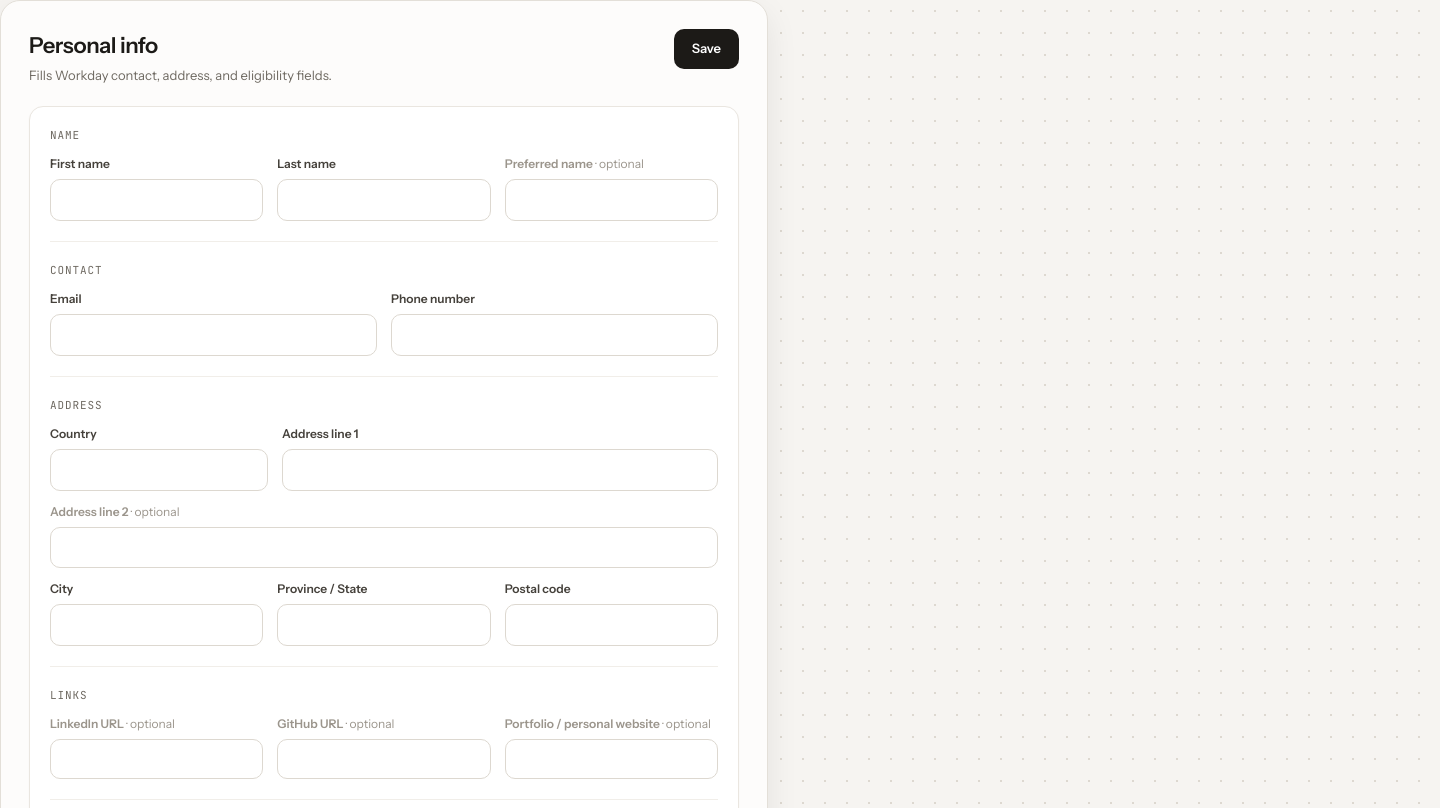
Test case: PersonalInfoPage › shows a validation error when email is invalid
The image size is (1440, 808).
Type "not-an-email" into the field labelled "Email" at (214, 335), box left=50, top=314, right=377, bottom=356
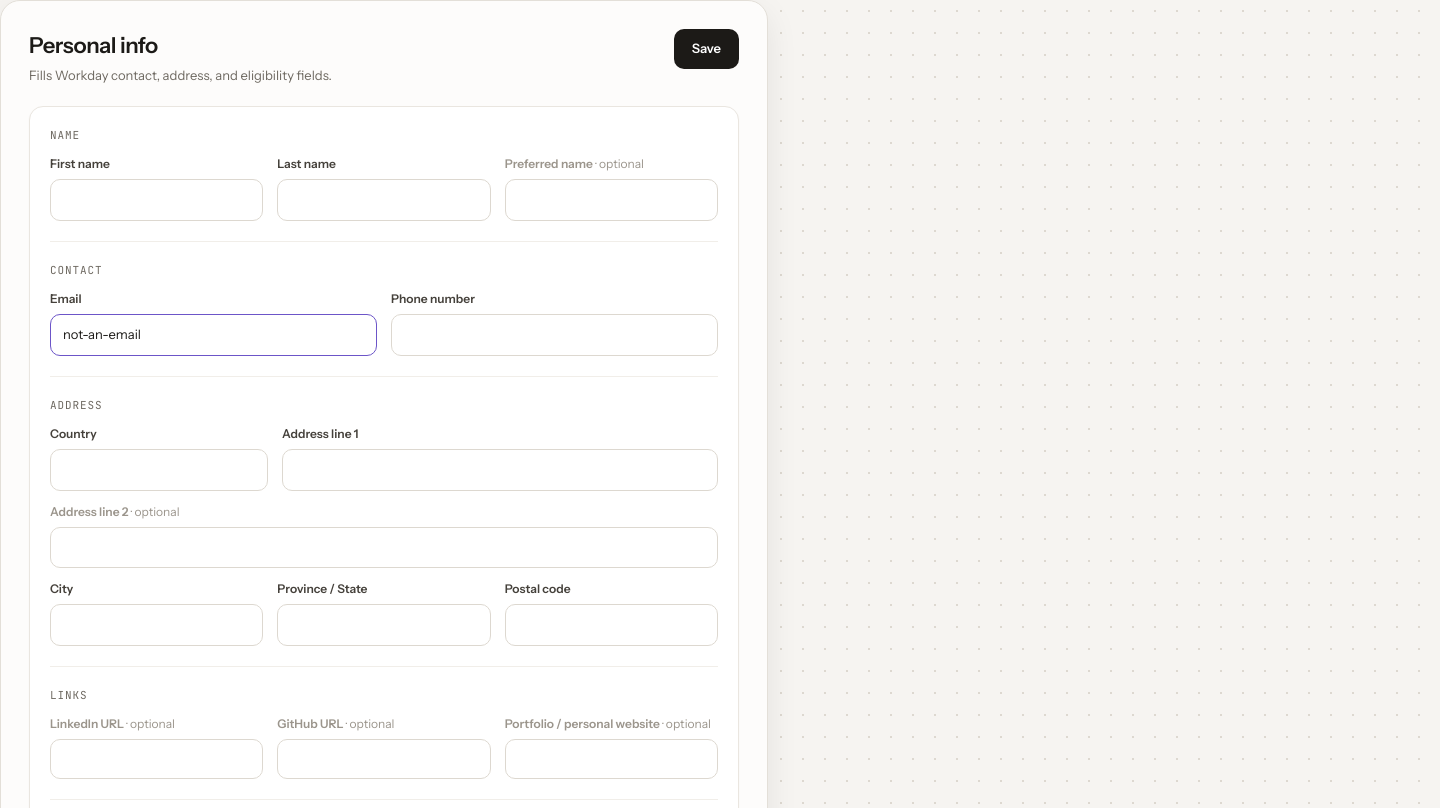
Click the button "Save" at (706, 49), box left=674, top=29, right=739, bottom=68
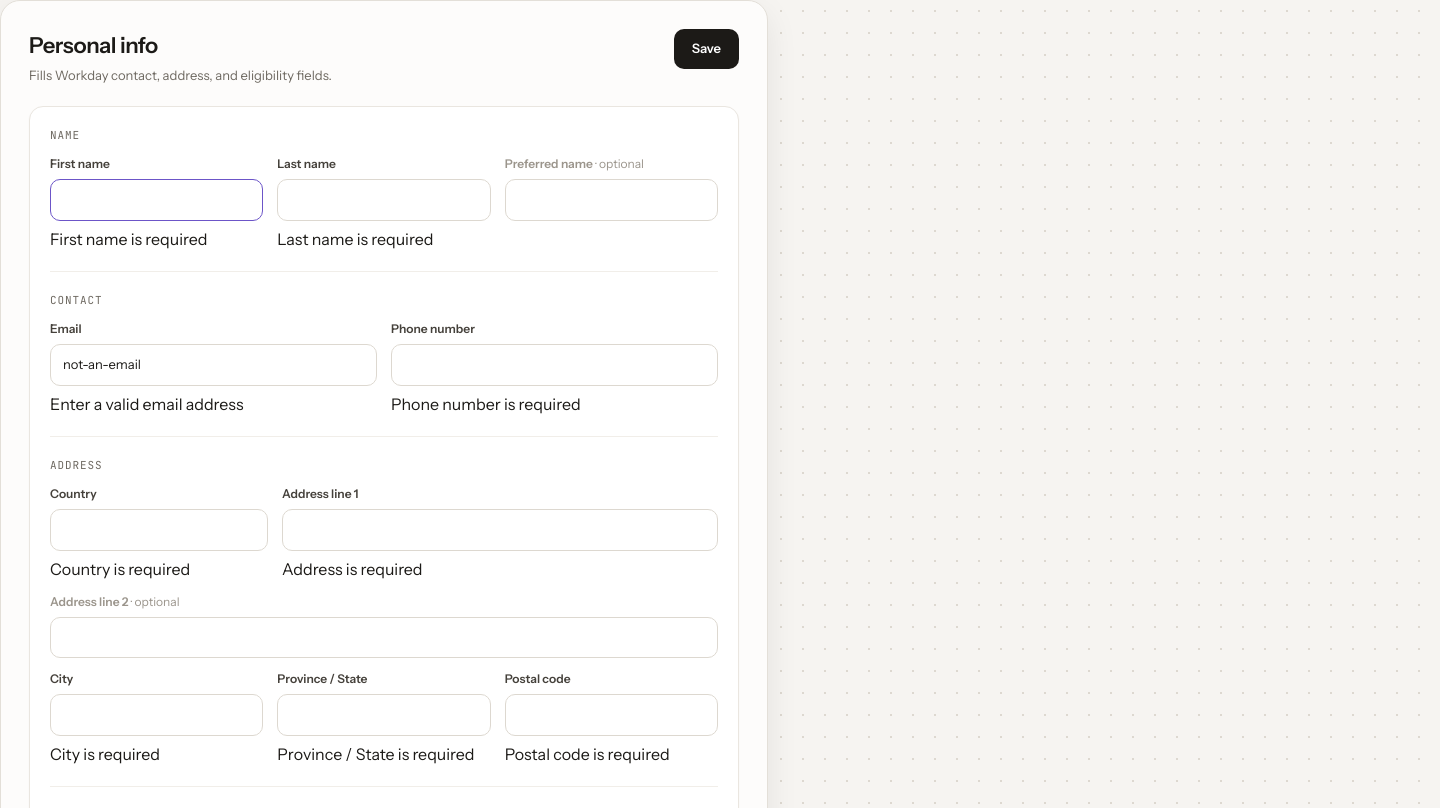
Result: the text "Enter a valid email address" is shown at left=50, top=394, right=244, bottom=414
